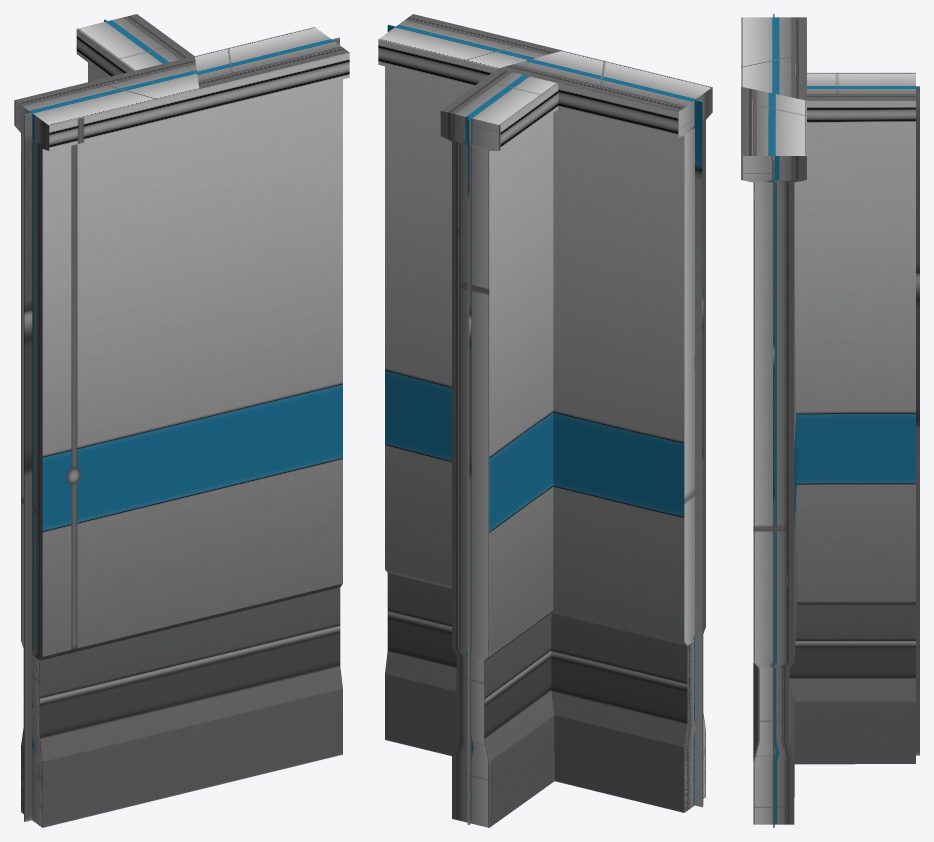
The model's file is TPC_LLM_SU_BB.fbx.
3 views of the same model, side by side, from view 1: azimuth 30°, elevation 25°; view 2: azimuth 150°, elevation 25°; view 3: azimuth 270°, elevation 25° (orthographic). The views are drawn at different scales.
Parts seen in each view (by area): view 1: TPC_LLM_SU_BB; view 2: TPC_LLM_SU_BB; view 3: TPC_LLM_SU_BB.
Boxes of the visible parts, x1,y1,x2,y2 form: TPC_LLM_SU_BB: [14, 14, 349, 827]; TPC_LLM_SU_BB: [378, 14, 712, 827]; TPC_LLM_SU_BB: [741, 14, 919, 827].
Size of the model in its own units: 2.1 by 4.5 by 1.09.
